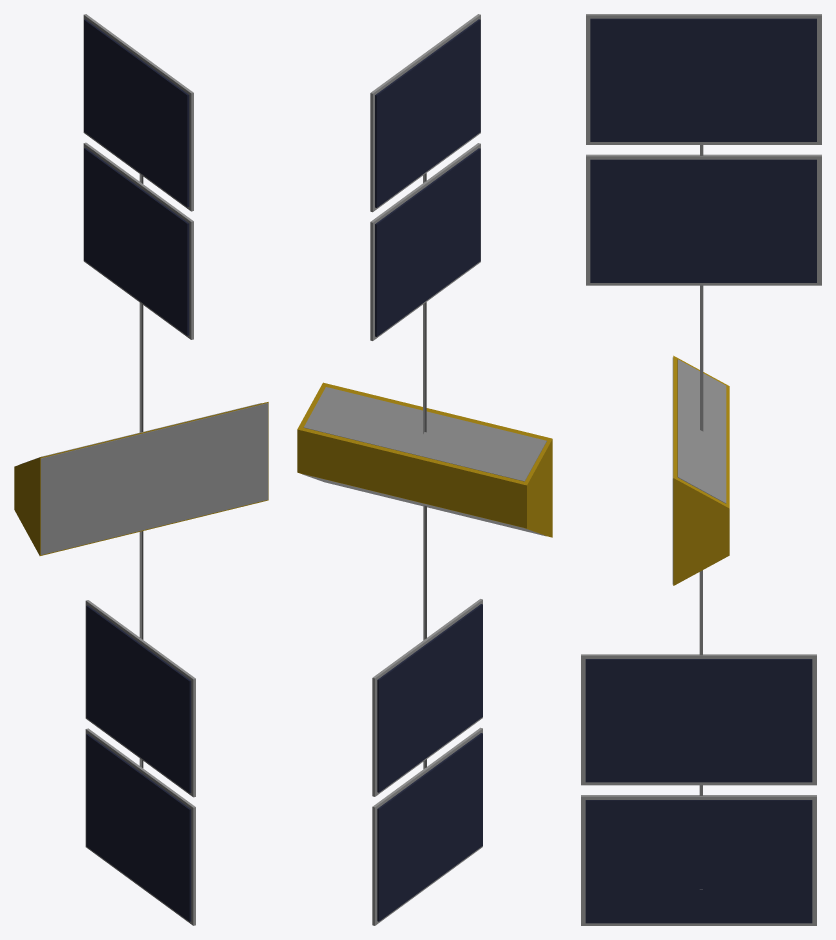
The model's file is iridium_next_low.gltf.
3 views of the same model, side by side, from view 1: azimuth 30°, elevation 25°; view 2: azimuth 150°, elevation 25°; view 3: azimuth 270°, elevation 25° (orthographic). The views are drawn at different scales.
Visible parts, largest first — view 1: Cube.011, Cube.043, Cube.032, Cube.050, Cube.023, Cube, Cube.038, Cube.041, Cube.022, Cube.020, Cube.019, Cube.037; view 2: Cube, Cube.023, Cube.032, Cube.043, Cube.050, Cube.016, Cube.041, Cube.022, Cube.038, Cube.020, Cube.013, Cube.037 (+1 smaller); view 3: Cube.043, Cube.050, Cube.023, Cube.032, Cube, Cube.016, Cube.038, Cube.020, Cube.022, Cube.041, Cube.019.
Boxes of the visible parts, <box> form: Cube.011: <box>40,403,268,554</box>; Cube.043: <box>86,605,191,793</box>; Cube.032: <box>84,19,189,207</box>; Cube.050: <box>86,734,191,921</box>; Cube.023: <box>84,148,189,335</box>; Cube: <box>14,402,268,555</box>; Cube.038: <box>85,600,195,797</box>; Cube.041: <box>85,728,195,925</box>; Cube.022: <box>83,14,193,211</box>; Cube.020: <box>83,142,193,339</box>; Cube.019: <box>139,174,143,432</box>; Cube.037: <box>139,531,143,767</box>; Cube: <box>297,382,552,537</box>; Cube.023: <box>375,148,480,336</box>; Cube.032: <box>375,19,480,207</box>; Cube.043: <box>377,604,482,792</box>; Cube.050: <box>377,733,482,921</box>; Cube.016: <box>304,387,546,481</box>; Cube.041: <box>372,727,482,925</box>; Cube.022: <box>370,14,480,212</box>; Cube.038: <box>372,599,482,796</box>; Cube.020: <box>370,143,480,340</box>; Cube.013: <box>302,474,545,536</box>; Cube.037: <box>423,505,426,768</box>; Cube.043: <box>585,659,812,782</box>; Cube.050: <box>585,800,812,923</box>; Cube.023: <box>590,159,816,282</box>; Cube.032: <box>590,18,816,141</box>; Cube: <box>673,355,729,585</box>; Cube.016: <box>677,359,726,503</box>; Cube.038: <box>581,654,816,785</box>; Cube.020: <box>586,154,821,285</box>; Cube.022: <box>586,14,821,144</box>; Cube.041: <box>581,795,816,925</box>; Cube.019: <box>700,145,703,431</box>.
Size of the model in its own units: 5.54 by 19.21 by 4.6.
